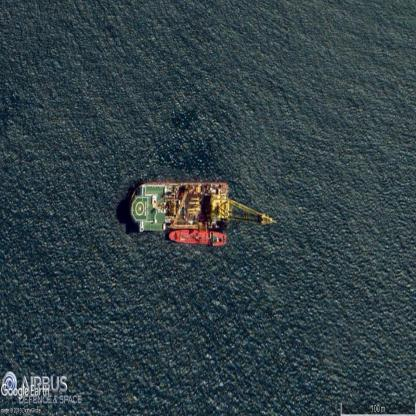ship: (131, 182, 230, 230), (168, 229, 226, 246)
